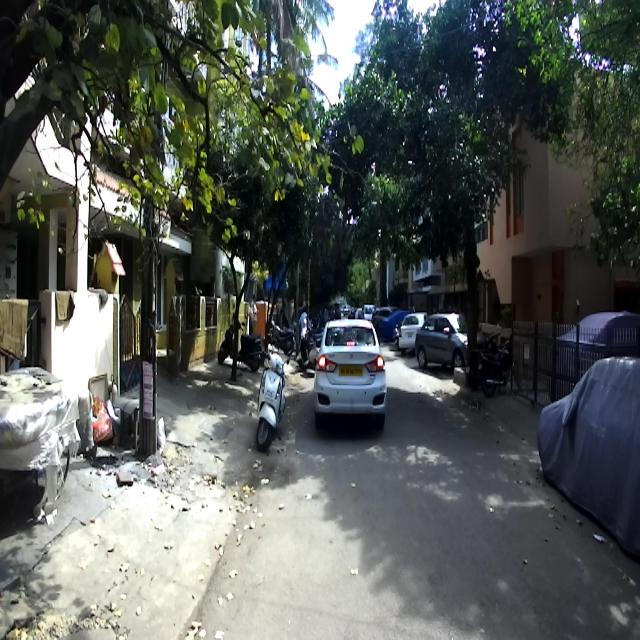car: (536, 356, 639, 554), (312, 316, 386, 432), (554, 309, 639, 396), (413, 312, 487, 370)
scooter: (254, 332, 290, 452)
